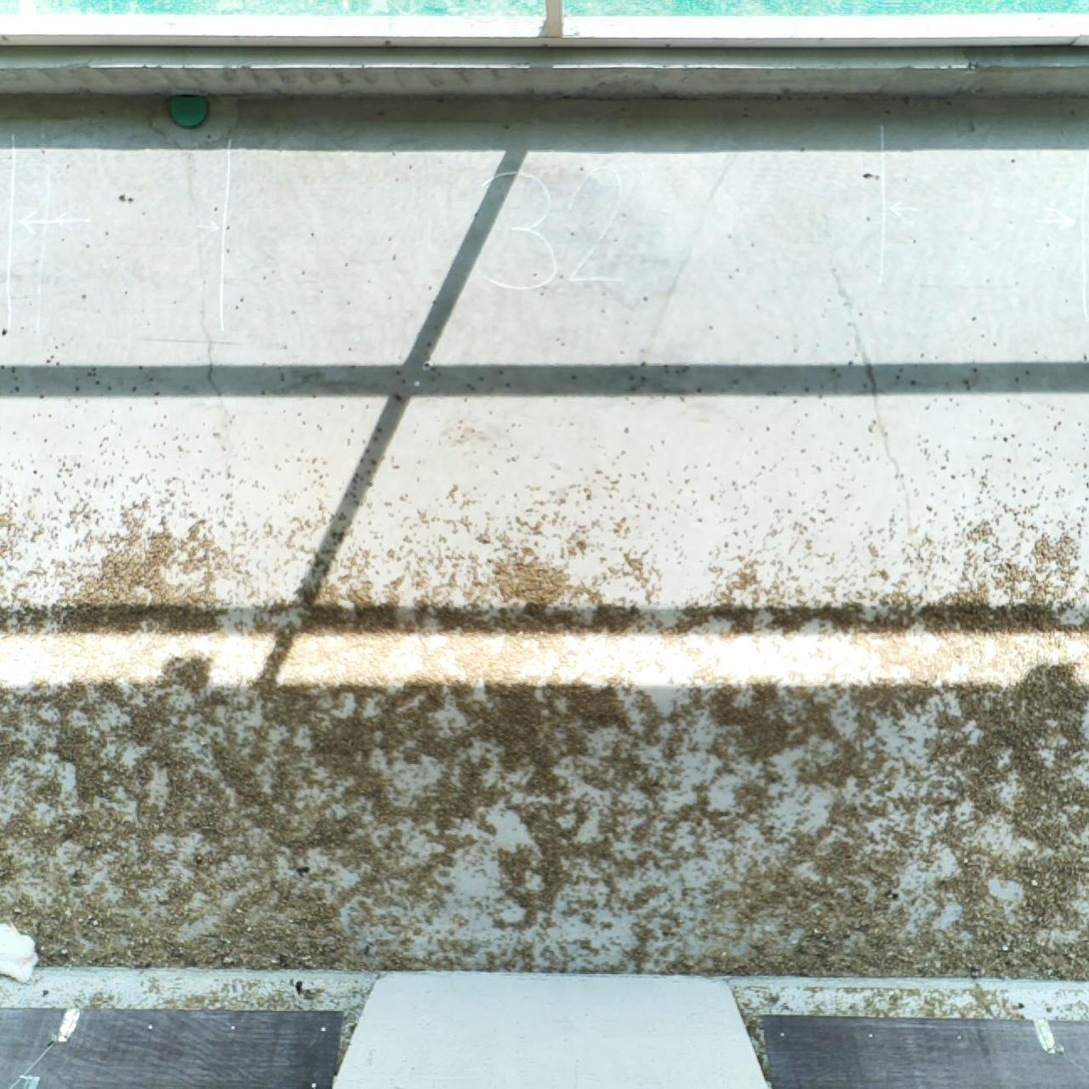chicken: (0, 915, 48, 982)
